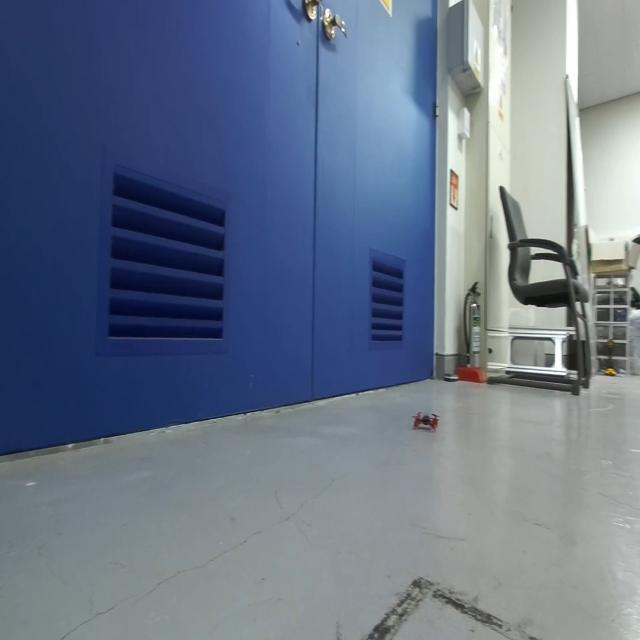crazyflie: (410, 406, 443, 434)
